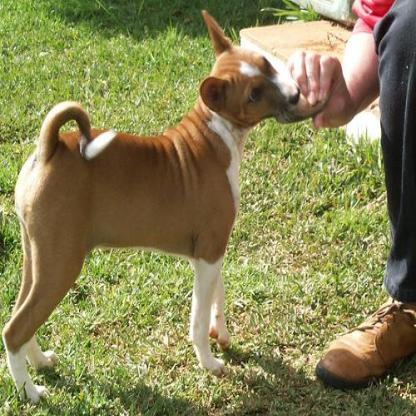basenji: (0, 6, 301, 406)
